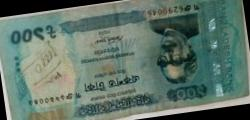100 taka: (3, 20, 246, 96)
